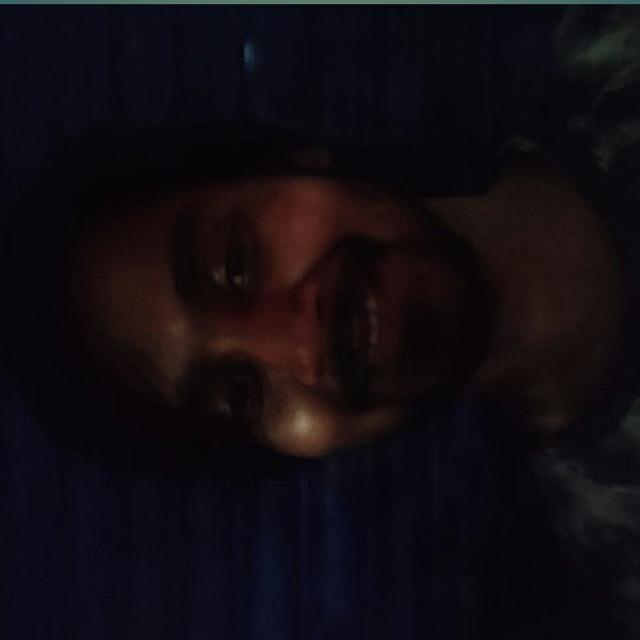Happy: (83, 165, 493, 512)
